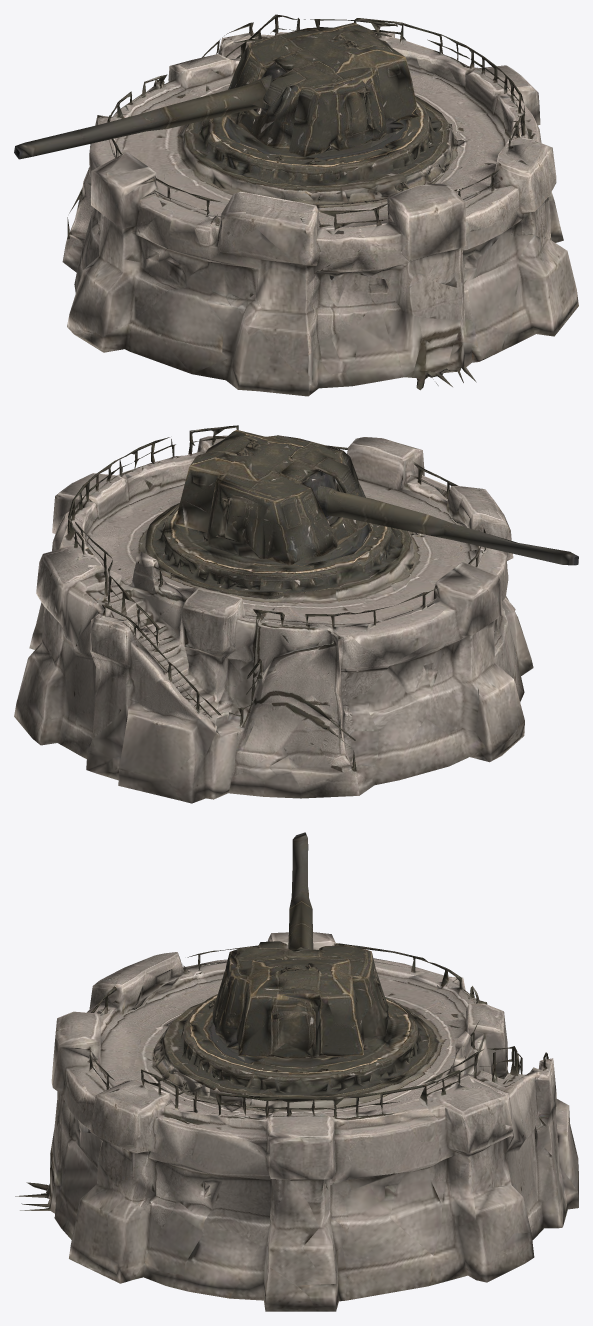
The model's file is gun_turret.glb.
3 views of the same model, one above another, from view 1: azimuth 30°, elevation 25°; view 2: azimuth 150°, elevation 25°; view 3: azimuth 270°, elevation 25° (orthographic). The views are drawn at different scales.
Visible parts, largest first — view 1: gun_turret; view 2: gun_turret; view 3: gun_turret.
Boxes of the visible parts, left/top/right/bottom form: gun_turret: left=14, top=14, right=578, bottom=396; gun_turret: left=14, top=425, right=578, bottom=803; gun_turret: left=15, top=832, right=578, bottom=1311.
Bounding box in the file's own units: 1.9 × 0.8336 × 1.71.
1 material, 1 textured.
